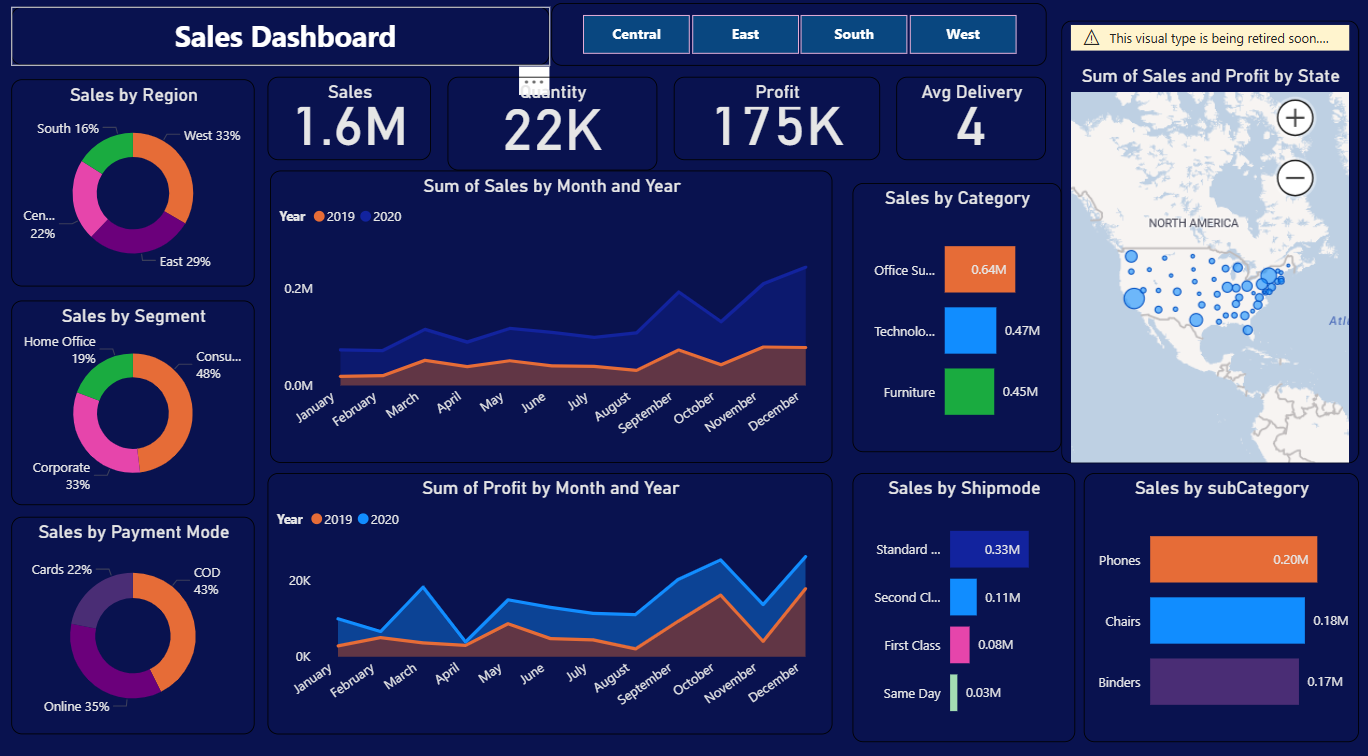

The page's visual inventory and layout, read from the dashboard file:
{"tool":"powerbi","page":{"name":"Page 1","canvas":[1280,720],"ordinal":0},"visuals":[{"type":"clusteredBarChart","title":"Sales by Category","fields":{"Category":["Sheet1.Category"],"Y":["Sum(Sheet1.Sales)"]},"box":[797.7,181.4,194.2,250],"z":0},{"type":"clusteredBarChart","title":"Sales by subCategory","fields":{"Category":["Sheet1.Sub-Category"],"Y":["Sum(Sheet1.Sales)"]},"box":[1012.8,451.2,255.8,250],"z":1000},{"type":"clusteredBarChart","title":"Sales by Shipmode","fields":{"Category":["Sheet1.Ship Mode"],"Y":["Sum(Sheet1.Sales)"]},"box":[797.7,451.2,207,250],"z":2000},{"type":"stackedAreaChart","fields":{"Y":["Sum(Sheet1.Sales)"],"Category":["Sheet1.Order Date.Variation.Date Hierarchy.Month","Sheet1.Order Date.Variation.Date Hierarchy.Day"],"Series":["Sheet1.Order Date.Variation.Date Hierarchy.Year"]},"box":[255.8,169.8,523.3,272.1],"z":3000},{"type":"stackedAreaChart","fields":{"Category":["Sheet1.Order Date.Variation.Date Hierarchy.Month","Sheet1.Order Date.Variation.Date Hierarchy.Day"],"Series":["Sheet1.Order Date.Variation.Date Hierarchy.Year"],"Y":["Sum(Sheet1.Profit)"]},"box":[253.5,451.2,525.6,243],"z":4000},{"type":"map","title":"Sum of Sales and Profit by State","fields":{"Category":["Sheet1.State"],"Size":["Sum(Sheet1.Sales)"]},"box":[991.9,30.2,276.7,411.6],"z":5000},{"type":"donutChart","title":" Sales by Segment","fields":{"Category":["Sheet1.Segment"],"Y":["Sum(Sheet1.Sales)"]},"box":[15.1,290.7,226.7,190.7],"z":6000},{"type":"donutChart","title":" Sales by Payment Mode","fields":{"Category":["Sheet1.Payment Mode"],"Y":["Sum(Sheet1.Sales)"]},"box":[15.1,491.9,226.7,202.3],"z":7000},{"type":"slicer","fields":{"Values":["Sheet1.Region"]},"box":[517.4,14,460.5,58.1],"z":8000},{"type":"textbox","box":[15.1,17.4,501.2,54.7],"z":9000},{"type":"card","title":"Sales","fields":{"Values":["Sum(Sheet1.Sales)"]},"box":[253.5,82.6,152.3,77.9],"z":10000},{"type":"card","title":"Quantity","fields":{"Values":["Sum(Sheet1.Quantity)"]},"box":[420.9,82.6,191.9,77.9],"z":11000},{"type":"card","title":"Profit","fields":{"Values":["Sum(Sheet1.Profit)"]},"box":[631.4,82.6,191.9,77.9],"z":12000},{"type":"card","title":"Avg Delivery","fields":{"Values":["Avg(SuperStore_Sales.AvgDelivery)"]},"box":[838.4,82.6,139.5,77.9],"z":13000},{"type":"donutChart","title":" Sales by Region","fields":{"Category":["SuperStore_Sales.Region"],"Y":["Sum(Sheet1.Sales)"]},"box":[15.1,84.9,226.7,193],"z":14000}]}

Visuals, with their boxes in screenshot pixels (x1, y1, x2, y2), scaled from the page's 1280x720 canvas onto the 1368x756 screenshot:
"Sales by Category" clusteredBarChart: {"left": 853, "top": 190, "right": 1060, "bottom": 453}
"Sales by subCategory" clusteredBarChart: {"left": 1082, "top": 474, "right": 1356, "bottom": 736}
"Sales by Shipmode" clusteredBarChart: {"left": 853, "top": 474, "right": 1074, "bottom": 736}
stackedAreaChart - Sum(Sheet1.Sales) x Sheet1.Order Date.Variation.Date Hierarchy.Month: {"left": 273, "top": 178, "right": 833, "bottom": 464}
stackedAreaChart - Sheet1.Order Date.Variation.Date Hierarchy.Month x Sheet1.Order Date.Variation.Date Hierarchy.Day: {"left": 271, "top": 474, "right": 833, "bottom": 729}
"Sum of Sales and Profit by State" map: {"left": 1060, "top": 32, "right": 1356, "bottom": 464}
" Sales by Segment" donutChart: {"left": 16, "top": 305, "right": 258, "bottom": 505}
" Sales by Payment Mode" donutChart: {"left": 16, "top": 516, "right": 258, "bottom": 729}
slicer - Sheet1.Region: {"left": 553, "top": 15, "right": 1045, "bottom": 76}
textbox: {"left": 16, "top": 18, "right": 552, "bottom": 76}
"Sales" card: {"left": 271, "top": 87, "right": 434, "bottom": 169}
"Quantity" card: {"left": 450, "top": 87, "right": 655, "bottom": 169}
"Profit" card: {"left": 675, "top": 87, "right": 880, "bottom": 169}
"Avg Delivery" card: {"left": 896, "top": 87, "right": 1045, "bottom": 169}
" Sales by Region" donutChart: {"left": 16, "top": 89, "right": 258, "bottom": 292}
